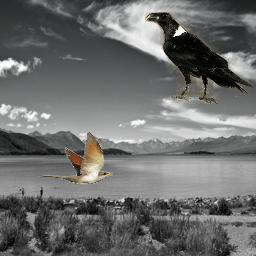Crow: (145, 12, 253, 104)
Cuckoo: (38, 132, 113, 184)
